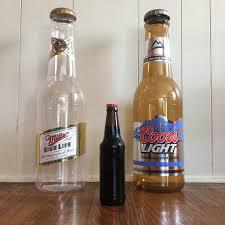beer: (99, 104, 126, 208)
